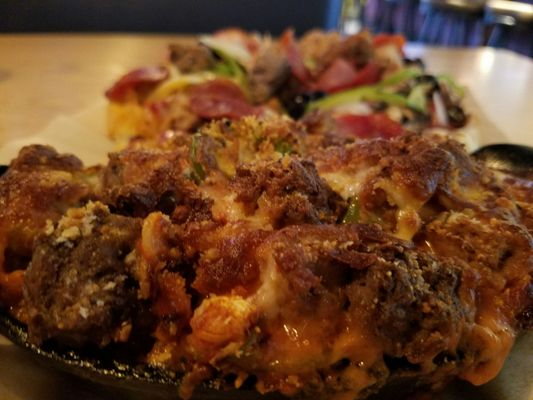sandwich: (0, 25, 533, 399)
